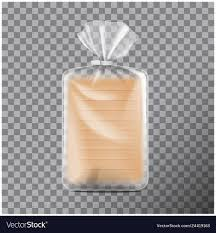bread: (59, 17, 155, 194)
